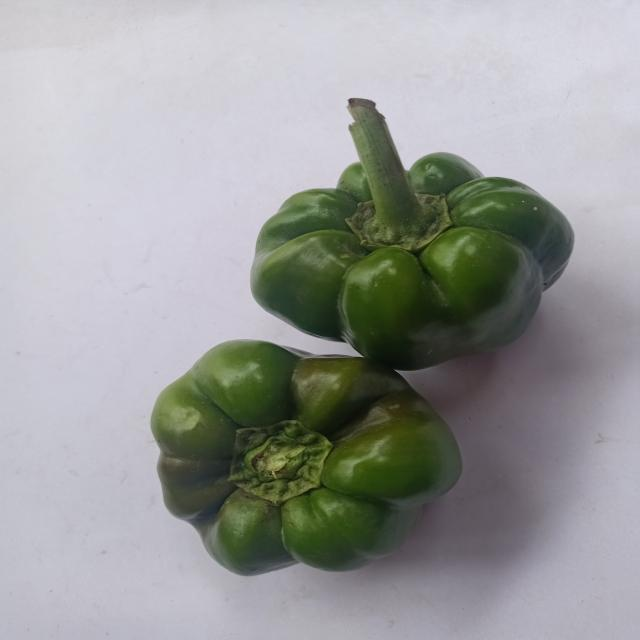Capsicum: (218, 71, 603, 380), (144, 333, 468, 599)
